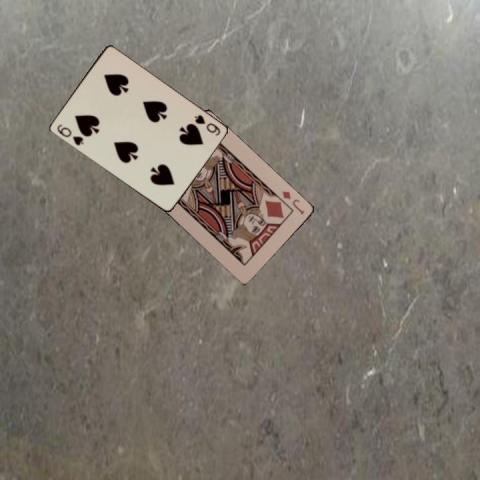6s: (53, 122, 85, 148), (192, 112, 222, 137)
Jd: (279, 188, 305, 216)
